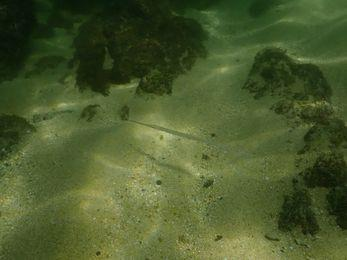Fistularia commersonii: (97, 103, 239, 170)
